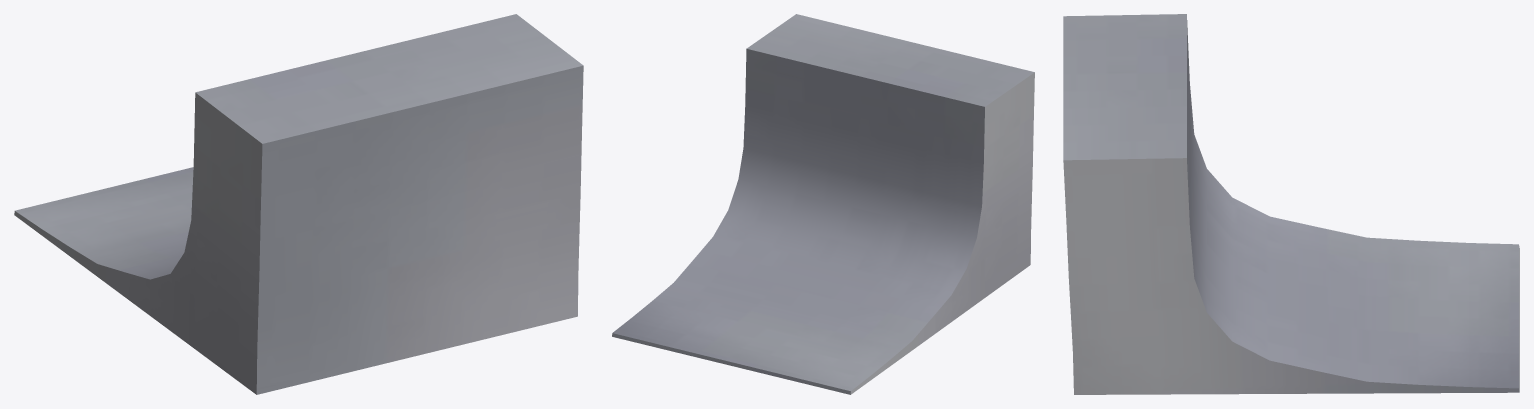
The model's file is halfpipe.fbx.
The picture shows the model from 3 angles, left to right: view 1: azimuth 30°, elevation 25°; view 2: azimuth 150°, elevation 25°; view 3: azimuth 270°, elevation 25°; orthographic projection. The views are drawn at different scales.
Visible parts, largest first — view 1: halfpipe; view 2: halfpipe; view 3: halfpipe.
Boxes of the visible parts, x1,y1,x2,y2 form: halfpipe: [14, 14, 583, 394]; halfpipe: [612, 14, 1034, 394]; halfpipe: [1063, 14, 1519, 394].
Size of the model in its own units: 162 by 124 by 217.
